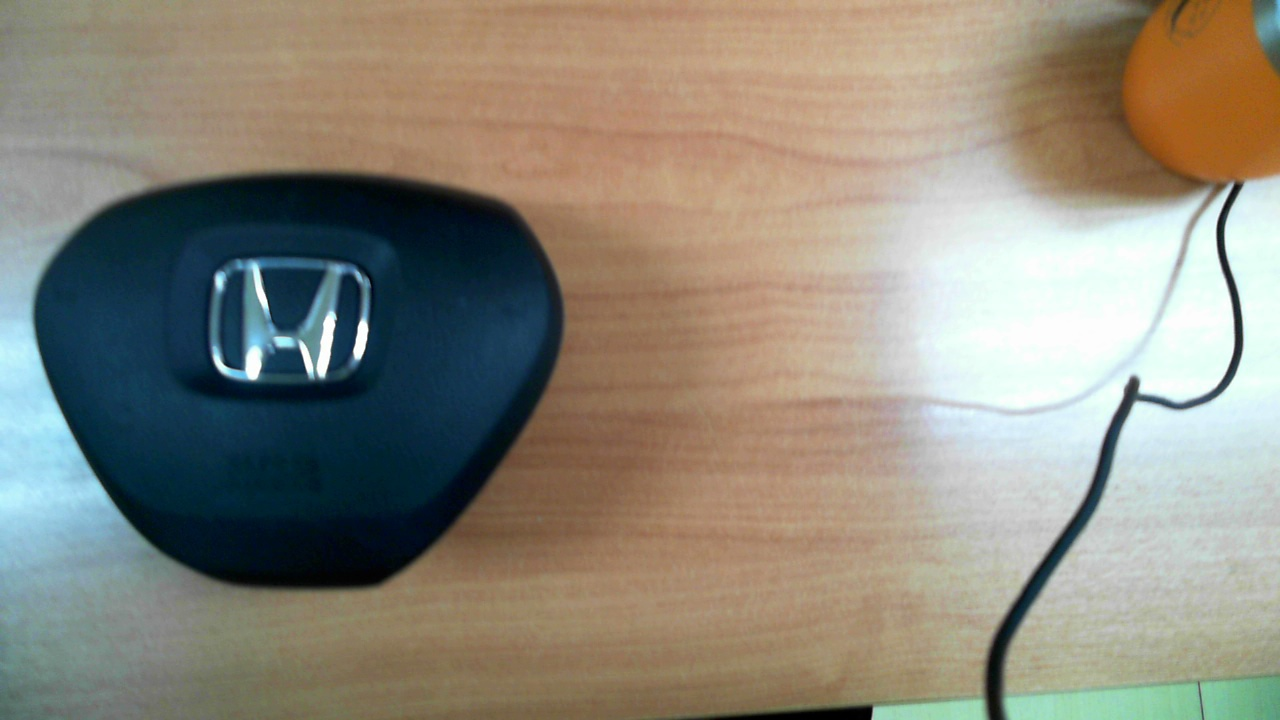Airbag: (32, 172, 564, 591)
Honda: (206, 256, 370, 385)
